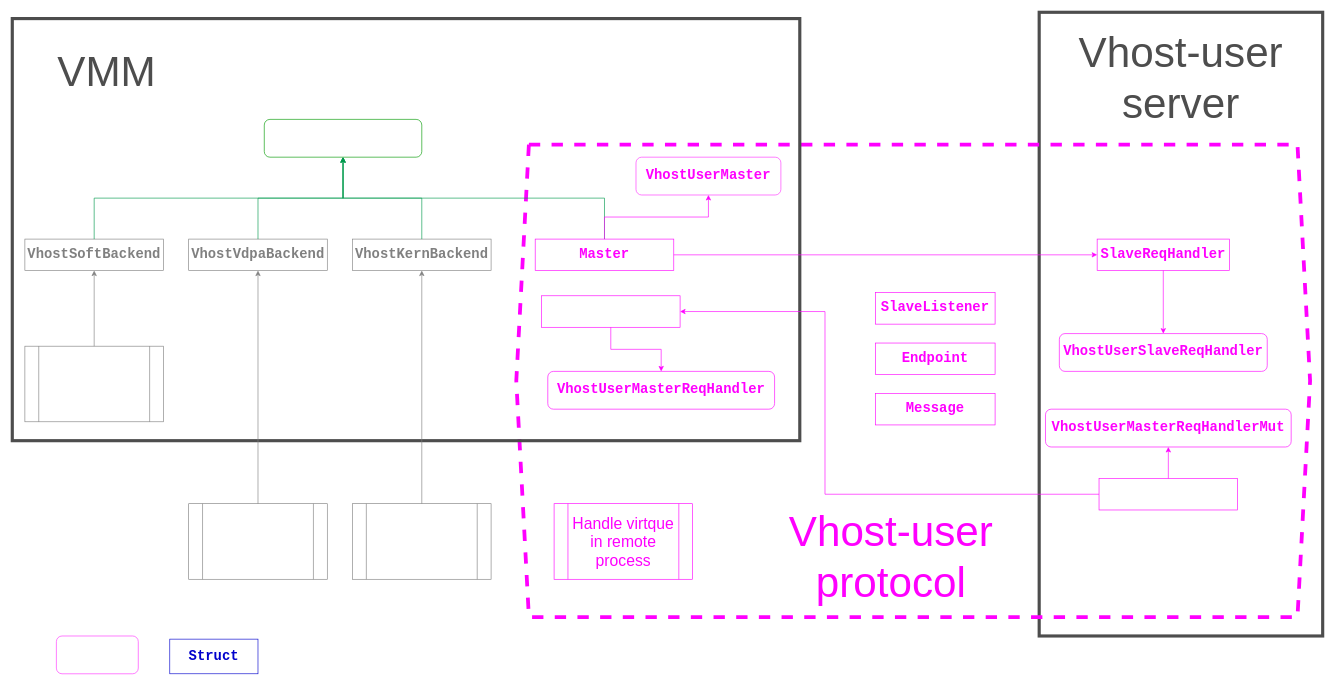
Image size: 1335x689. Some labels were removed from this diagram. Here are the shapes that lost their labels. From the top down, the box of each, then its label:
(264, 119, 422, 157): VhostBackend
(541, 295, 680, 327): MasterReqHandler
(24, 346, 163, 422): Handle virtque in VMM
(1098, 478, 1238, 510): SlaveFsCacheReq
(188, 503, 327, 579): Handle virtque in hardware
(352, 503, 491, 579): Handle virtque in kernel
(56, 635, 138, 674): Trait
